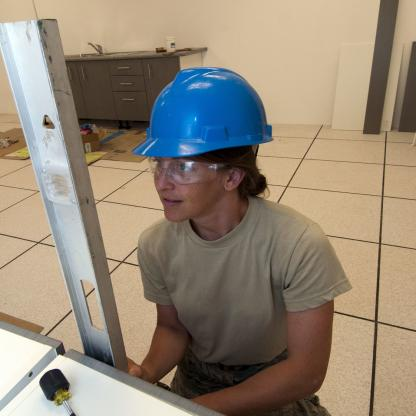Helmet: (138, 60, 272, 192)
